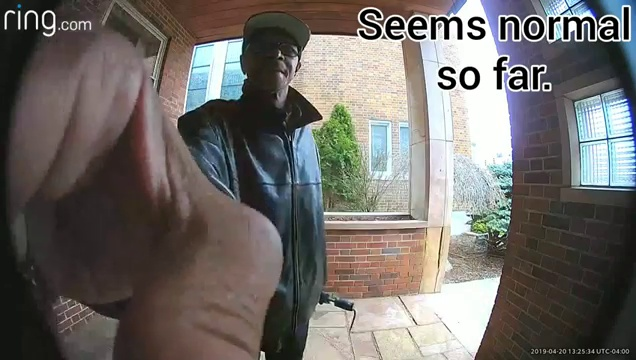face: (252, 32, 296, 83)
